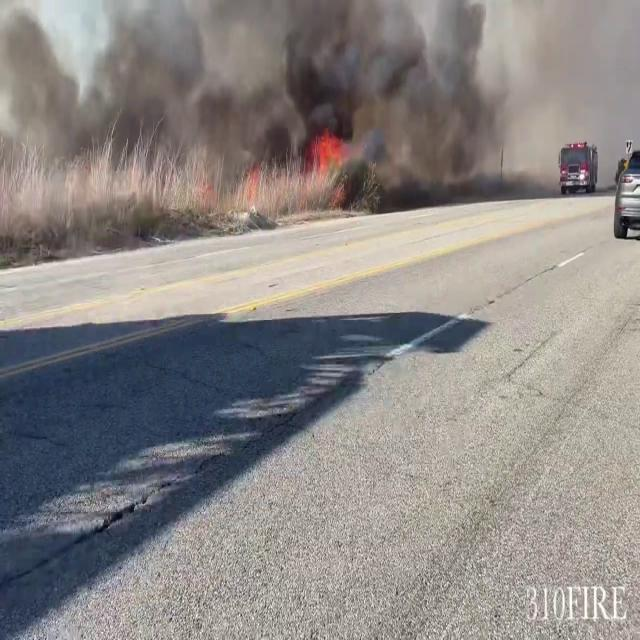Fire: (302, 120, 353, 184)
Smoke: (1, 0, 564, 199)
